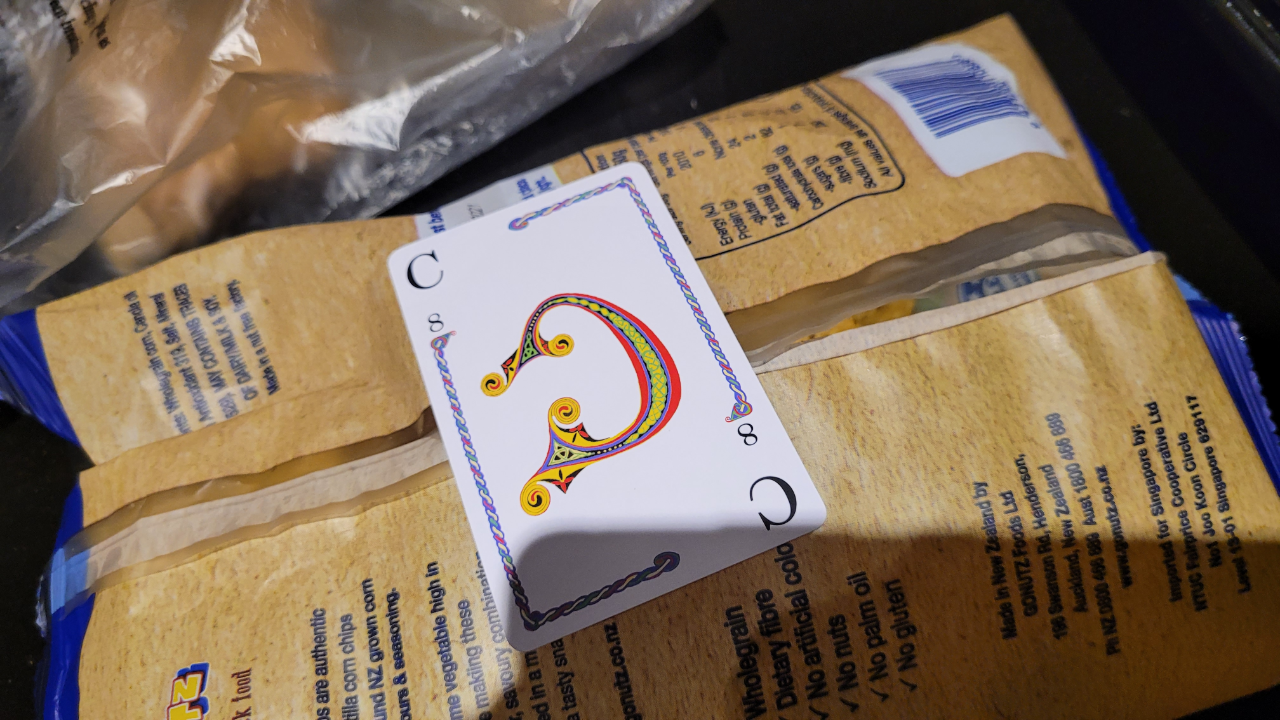quiddler_card: (375, 155, 838, 659)
